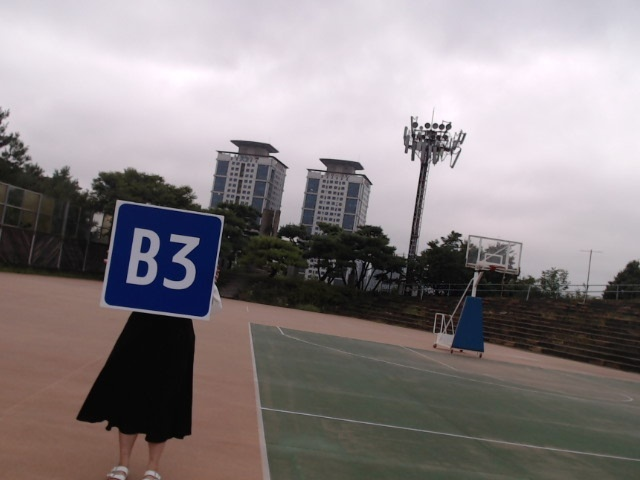delivery_b3: (105, 202, 224, 318)
